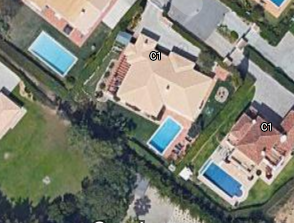pool: (31, 36, 72, 69), (209, 163, 244, 196), (149, 122, 176, 148)
